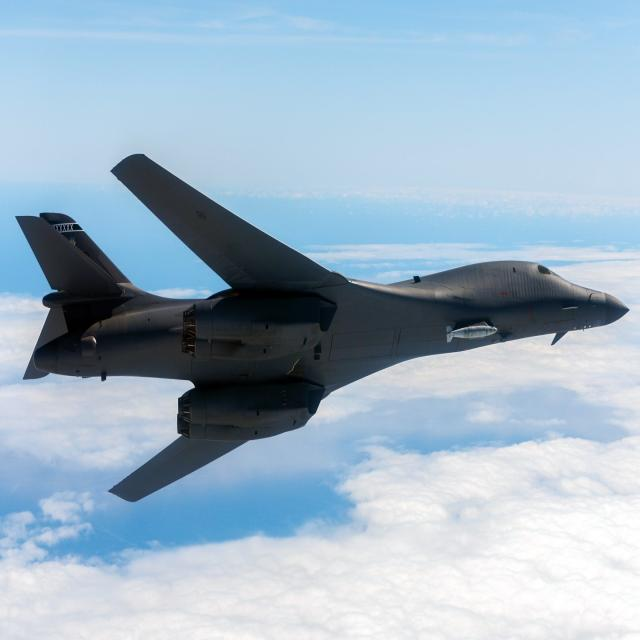B1: (13, 85, 634, 556)
